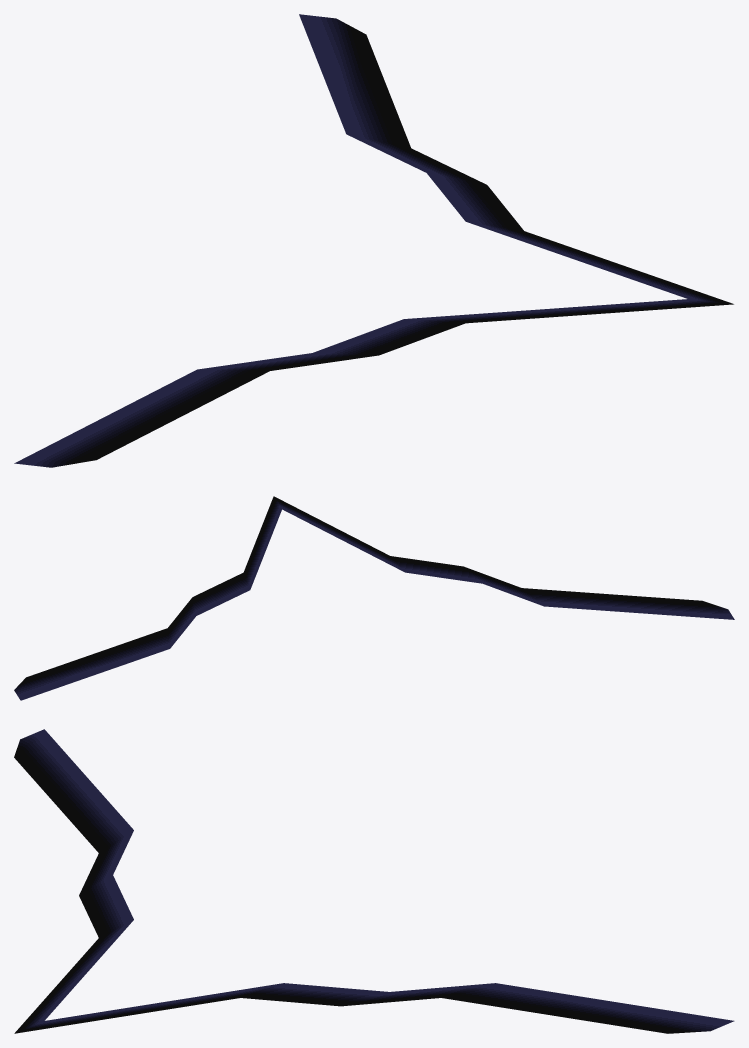
3 views of the same model, one above another, from view 1: azimuth 30°, elevation 25°; view 2: azimuth 150°, elevation 25°; view 3: azimuth 270°, elevation 25° (orthographic). The views are drawn at different scales.
Parts seen in each view (by area): view 1: Joint_0_Object_0; view 2: Joint_0_Object_0; view 3: Joint_0_Object_0.
Part boxes in pixels (x1,y1,x2,y2): Joint_0_Object_0: (14,14,733,467); Joint_0_Object_0: (14,496,734,700); Joint_0_Object_0: (14,729,734,1033).
Bounding box in the file's own units: 1478 × 0 × 1478.
Materials: 1 (1 with a texture image).
